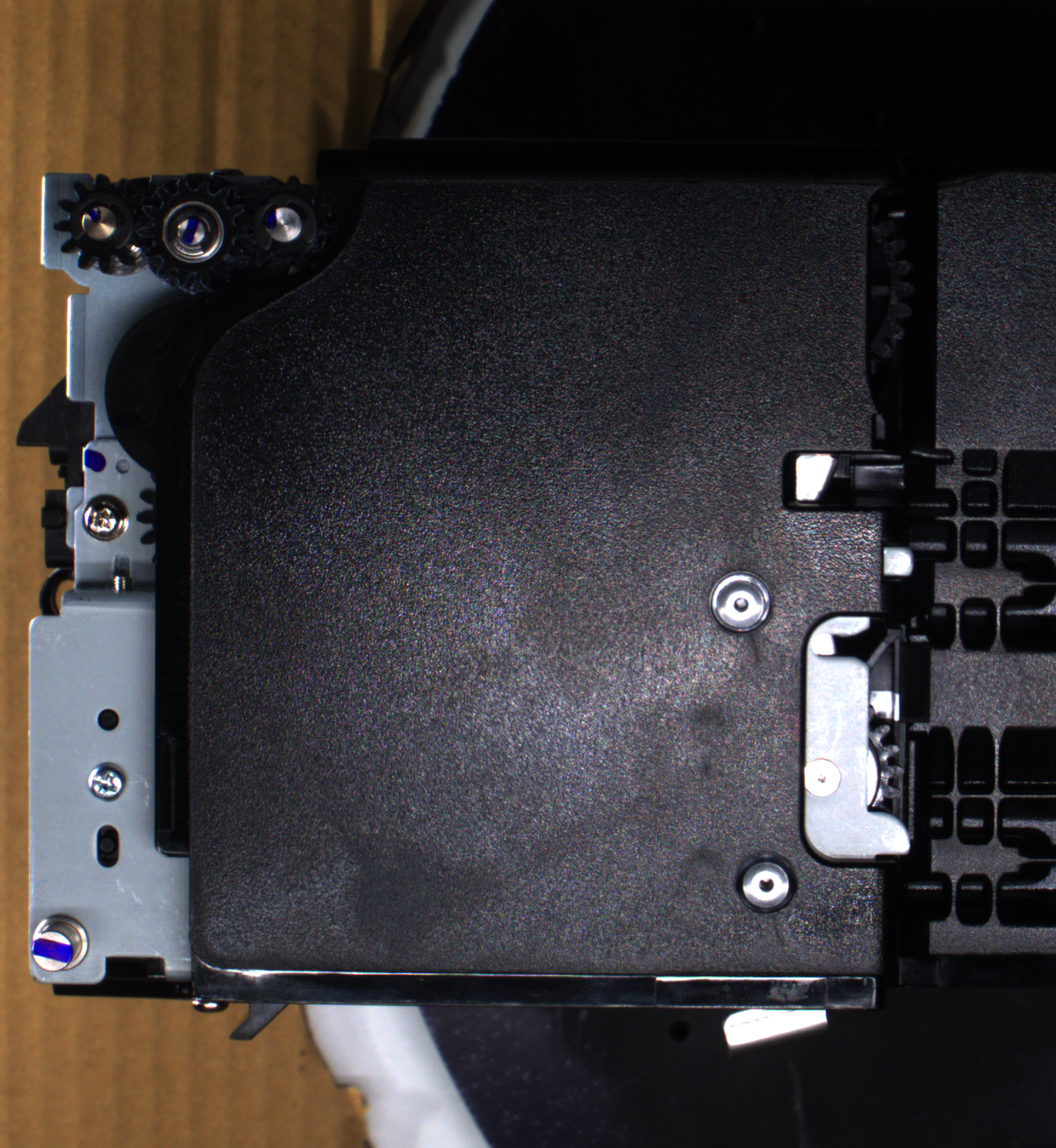centre_pin_presence: (718, 992, 834, 1055)
centre_plate_presence: (791, 607, 922, 875)
centre_screw_presence: (704, 564, 777, 643), (728, 845, 801, 917)
gear1_presence: (52, 173, 155, 278)
gear2_presence: (138, 172, 250, 294)
gear3_presence: (233, 174, 334, 276)
side_screw_presence: (79, 491, 131, 543), (84, 761, 129, 803)
slanting_pin_presence: (25, 910, 96, 980)
